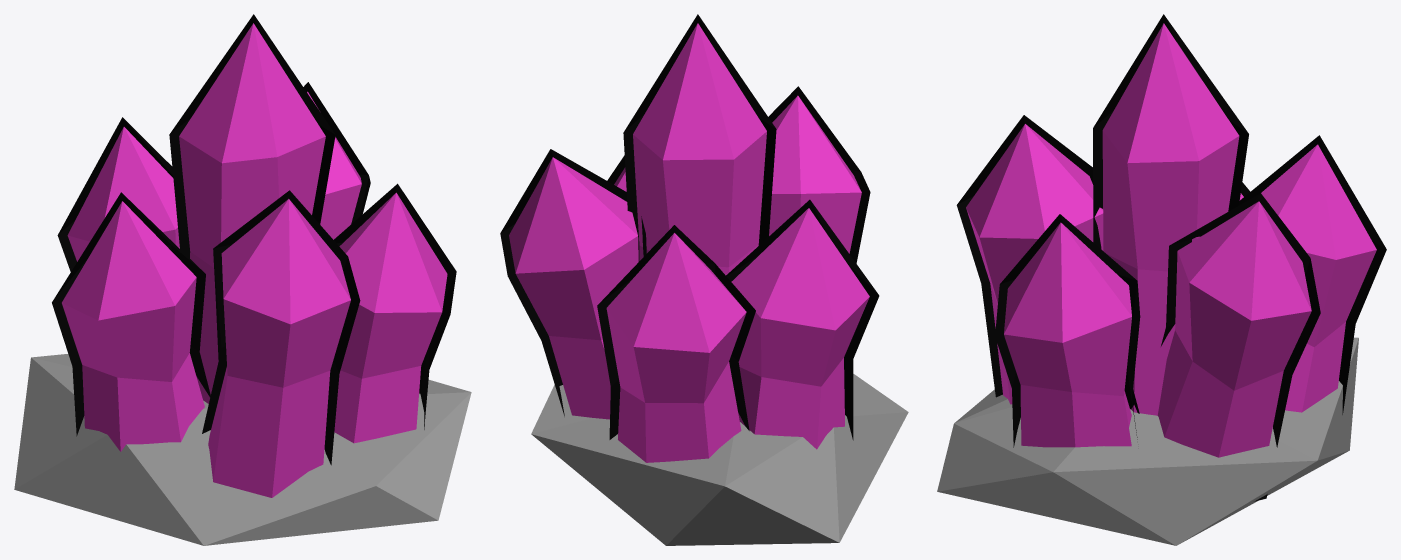
File: Crystal3.glb
The picture shows the model from 3 angles, left to right: view 1: azimuth 30°, elevation 25°; view 2: azimuth 150°, elevation 25°; view 3: azimuth 270°, elevation 25°; orthographic projection. The views are drawn at different scales.
Parts seen in each view (by area): view 1: Circle.007, Icosphere.013, Circle.006; view 2: Circle.007, Icosphere.013, Circle.006; view 3: Circle.007, Icosphere.013, Circle.006.
Part boxes in pixels (left/top/right/bottom): Circle.007: left=62, top=23, right=447, bottom=497; Icosphere.013: left=14, top=354, right=471, bottom=545; Circle.006: left=52, top=14, right=456, bottom=465; Circle.007: left=509, top=23, right=869, bottom=462; Icosphere.013: left=531, top=374, right=908, bottom=545; Circle.006: left=500, top=14, right=879, bottom=440; Circle.007: left=966, top=23, right=1376, bottom=457; Icosphere.013: left=937, top=337, right=1358, bottom=545; Circle.006: left=956, top=14, right=1386, bottom=501.
Size of the model in its own units: 0.1019 by 0.1279 by 0.1113.
